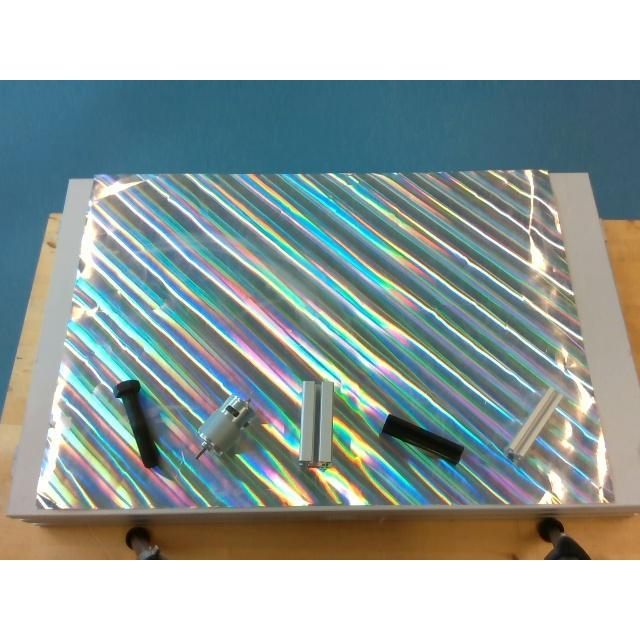F20_20_B: (381, 414, 464, 466)
F20_20_G: (506, 388, 562, 458)
M20_100: (114, 379, 158, 468)
Motor2: (196, 394, 254, 458)
S40_40_G: (298, 380, 334, 468)
